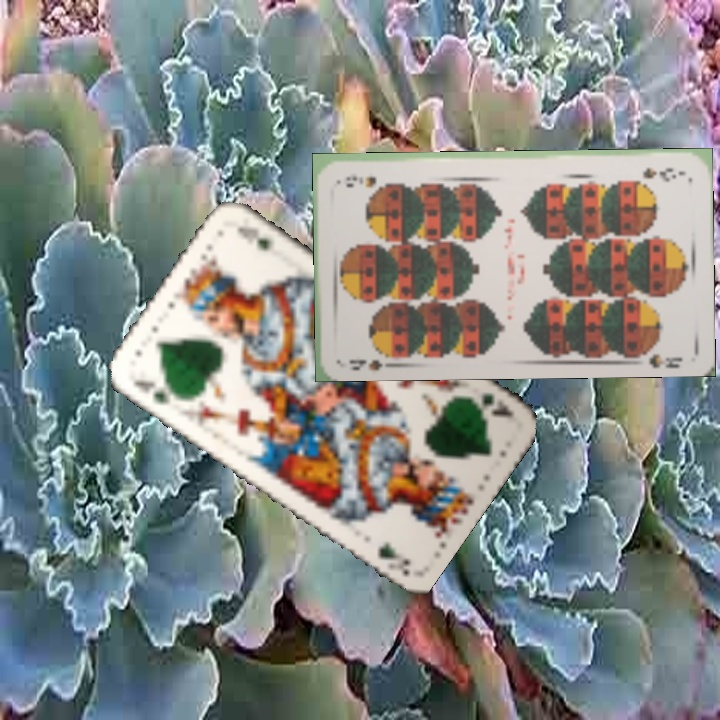GK: (125, 370, 174, 408), (462, 388, 518, 421)
S9: (345, 345, 399, 373), (638, 163, 678, 182)
